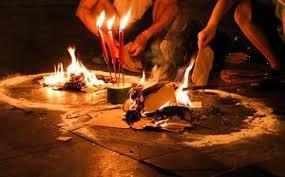fire: (41, 45, 106, 91), (119, 8, 132, 30)
